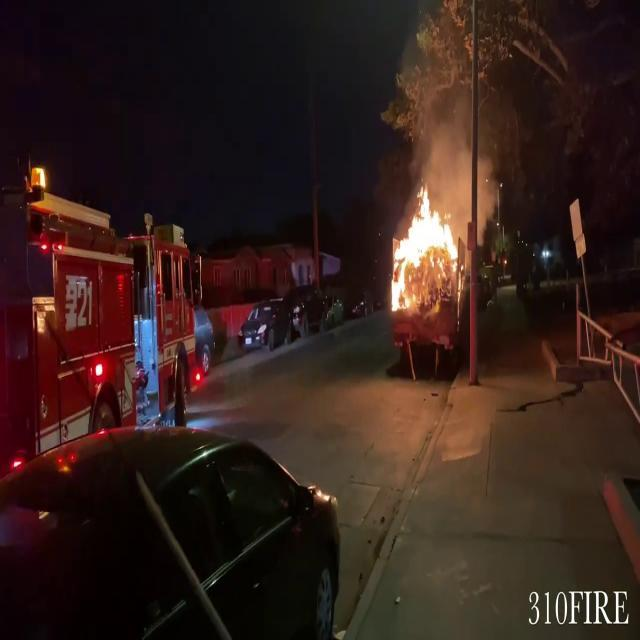Fire: (386, 182, 466, 318)
Smoke: (400, 36, 512, 232)
